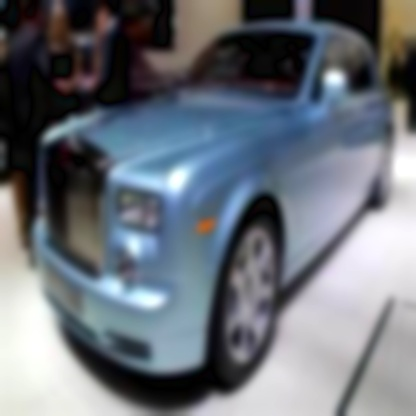Vehicle: (18, 13, 407, 404)
